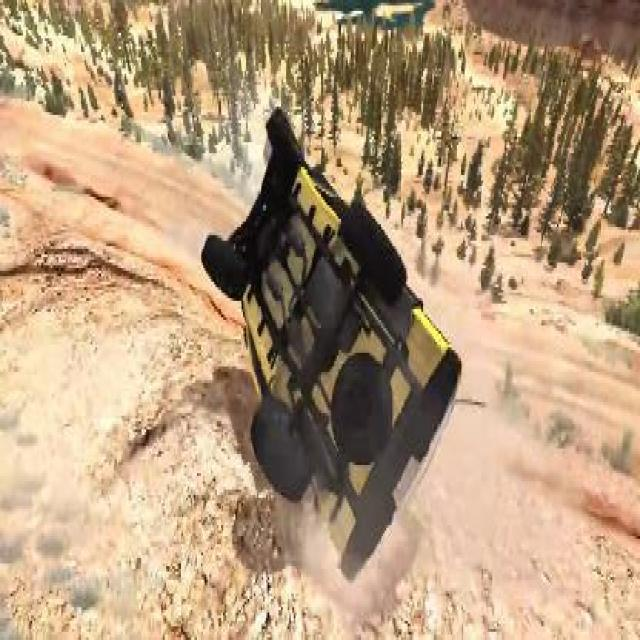accident: (189, 99, 460, 572)
